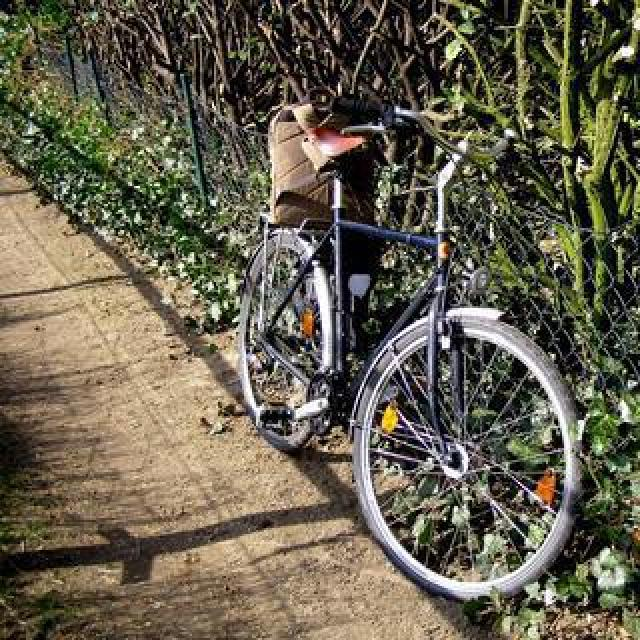Person: (223, 113, 595, 613)
